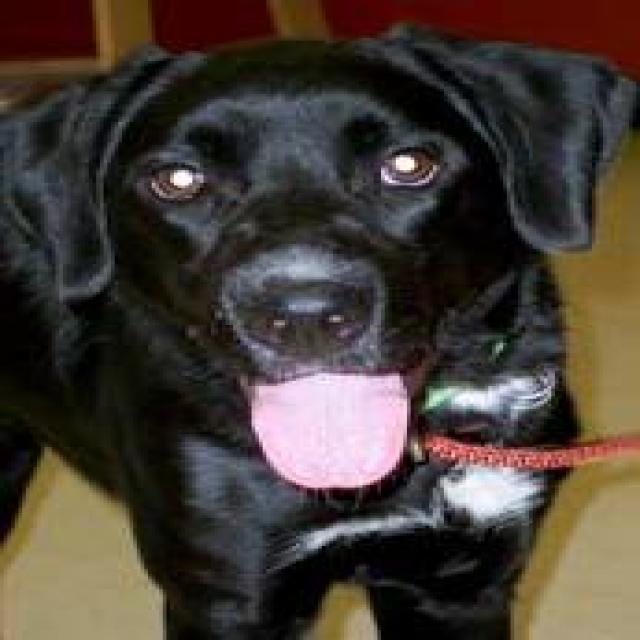dog: (0, 20, 636, 637)
